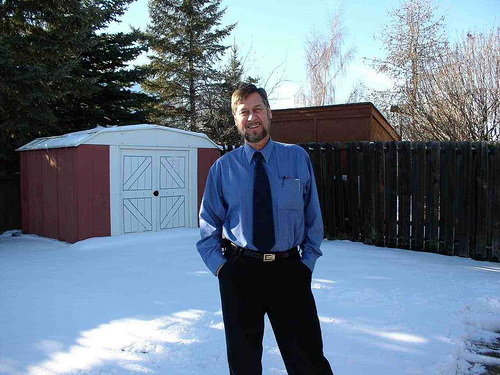without_mask: (229, 91, 274, 144)
